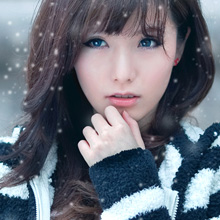face: (73, 1, 175, 122)
